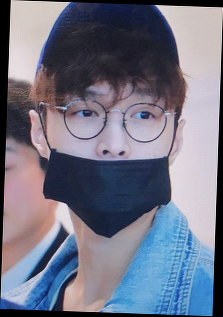mask_weared_incorrect: (42, 86, 174, 239)
